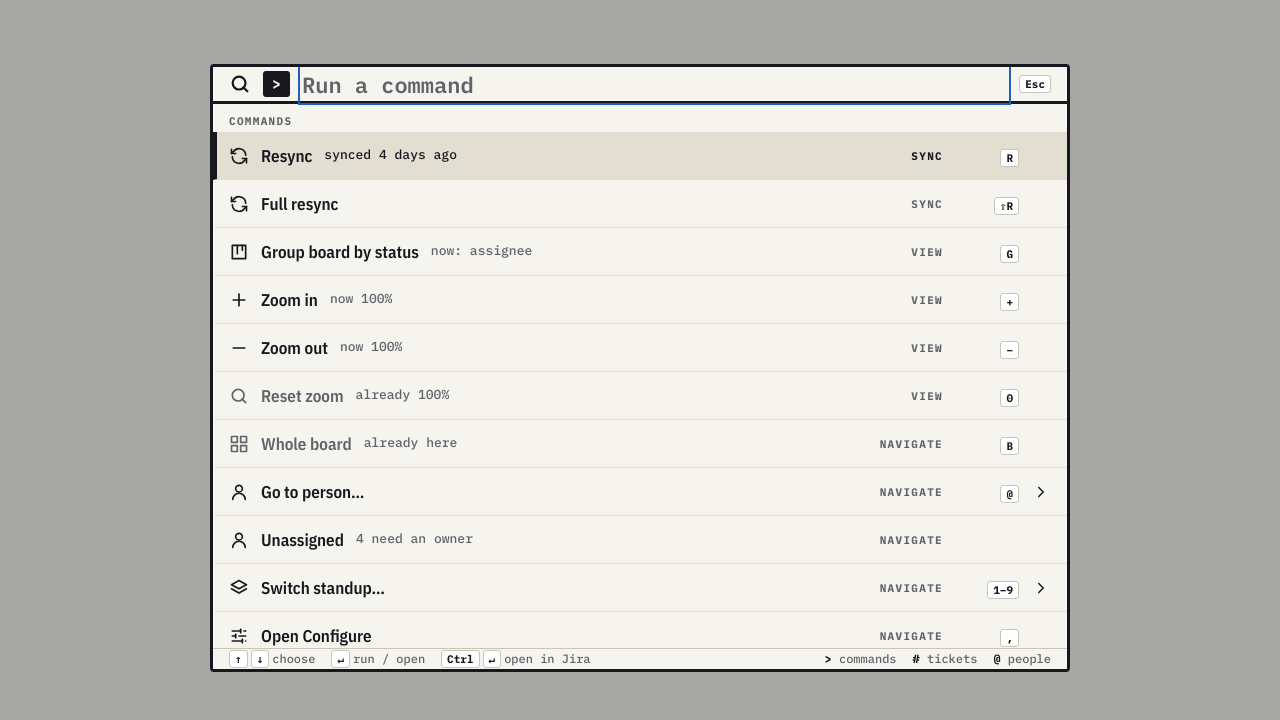
Test: nested commands and Esc › ↵ on Theme shows a breadcrumb and the choices, the current one checked; choosing saves and closes
Later steps or results of the test are not shown.
Step 1. Type "theme" into the dropdown → (655, 84), box [302, 67, 1007, 101]
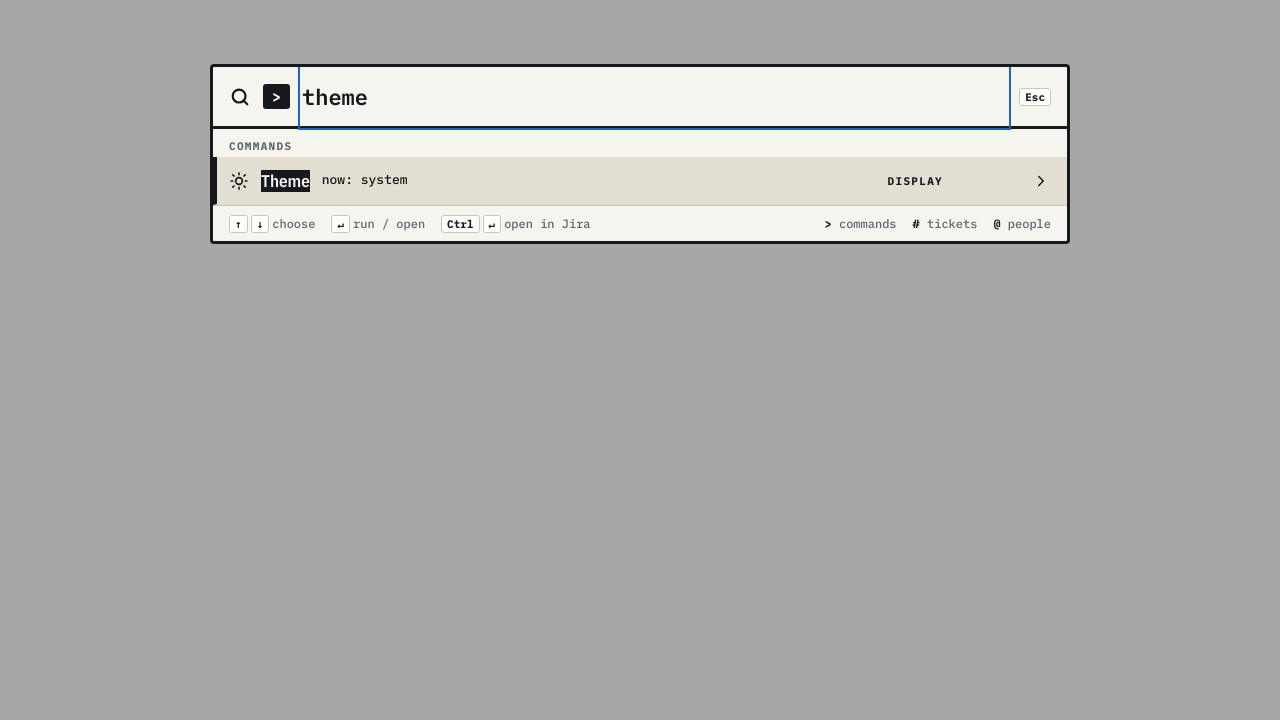
Step 2. Press Enter in the dropdown, box [302, 67, 1007, 126]
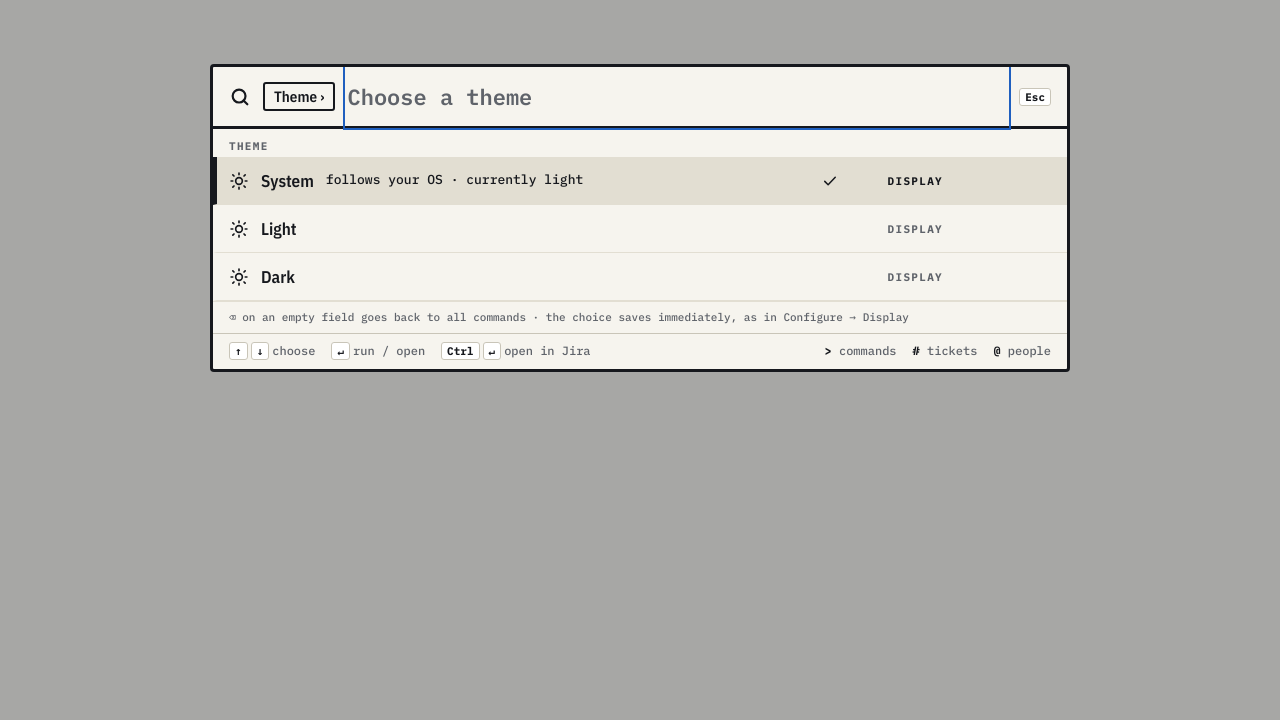
Now the element with test id "pal-crumb" shows "Theme", box [274, 87, 317, 106]
Step 3. Type "dar" into the dropdown → (677, 96), box [348, 67, 1007, 126]
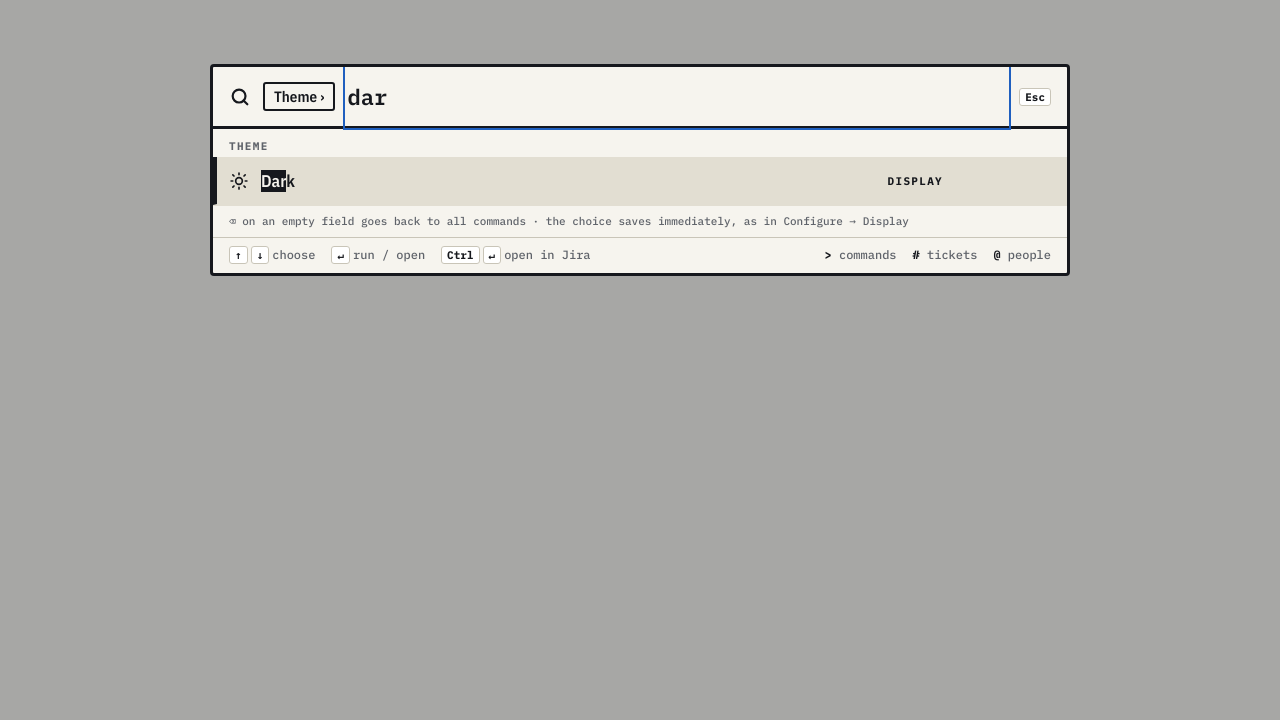
Now the number of options is 1, box [213, 157, 1067, 205]
